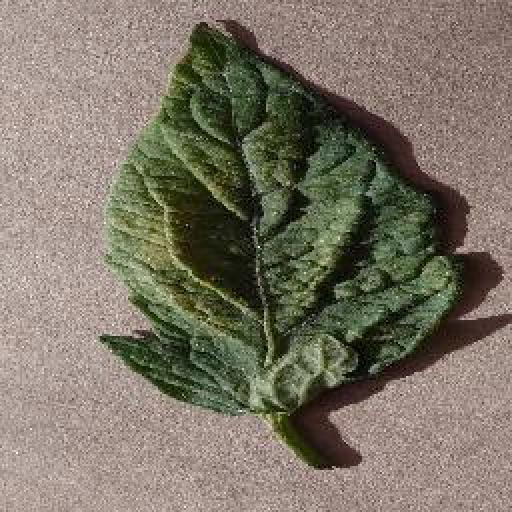disease_tomato: (98, 23, 456, 413)
